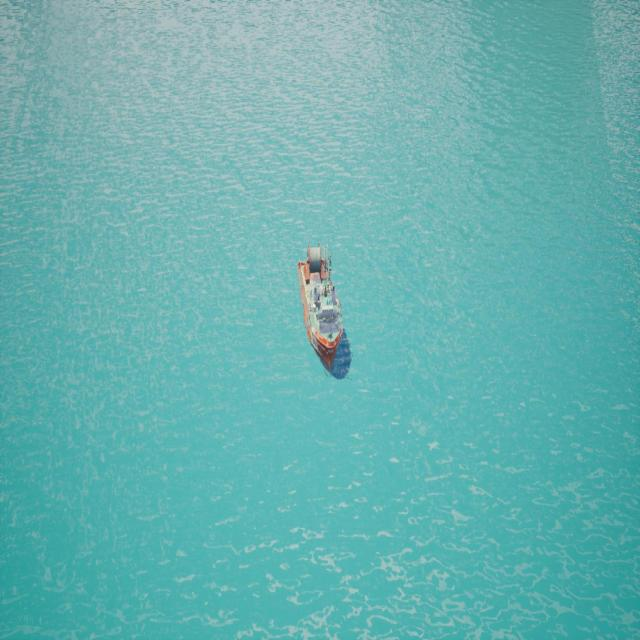tug boat: (298, 244, 348, 381)
